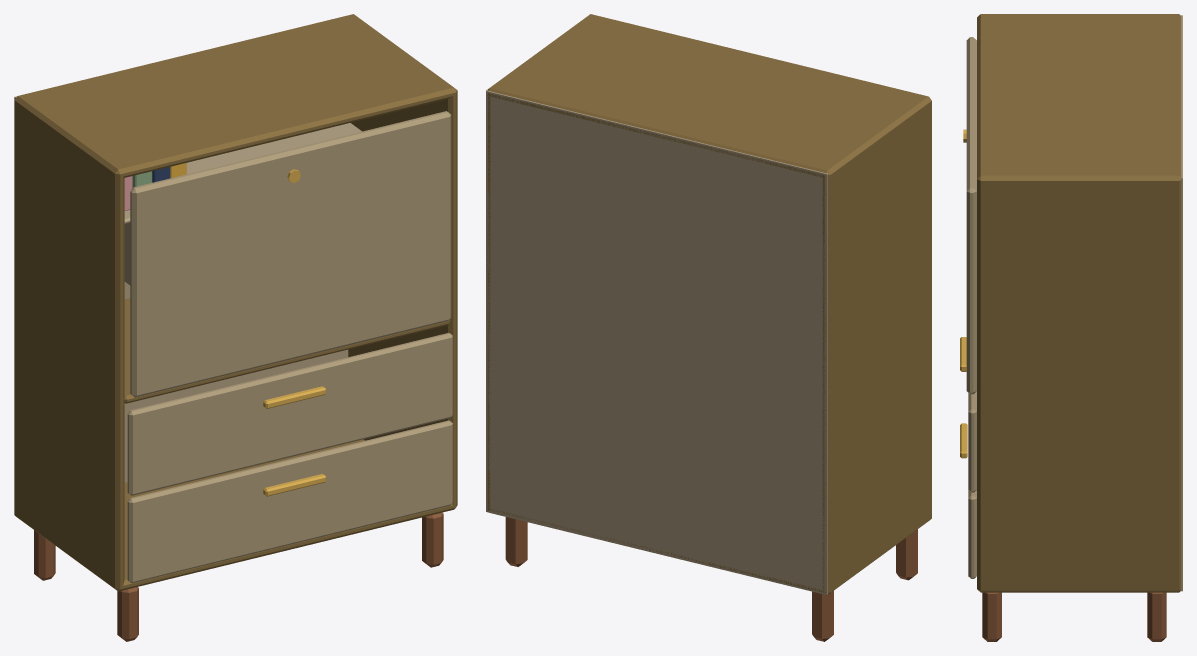
The model's file is secretary_desk.glb.
3 renders of one model, left to right at view 1: azimuth 30°, elevation 25°; view 2: azimuth 150°, elevation 25°; view 3: azimuth 270°, elevation 25°, orthographic.
Visible parts, largest first — view 1: secretary_desk_Body, secretary_desk_Flap; view 2: secretary_desk_Body; view 3: secretary_desk_Body, secretary_desk_Flap.
Boxes of the visible parts, x1,y1,x2,y2 form: secretary_desk_Body: (14, 14, 457, 641); secretary_desk_Flap: (130, 111, 451, 397); secretary_desk_Body: (486, 14, 931, 641); secretary_desk_Body: (960, 14, 1182, 641); secretary_desk_Flap: (963, 37, 976, 394).
Bounding box in the file's own units: 0.9 × 1.2 × 0.514.
